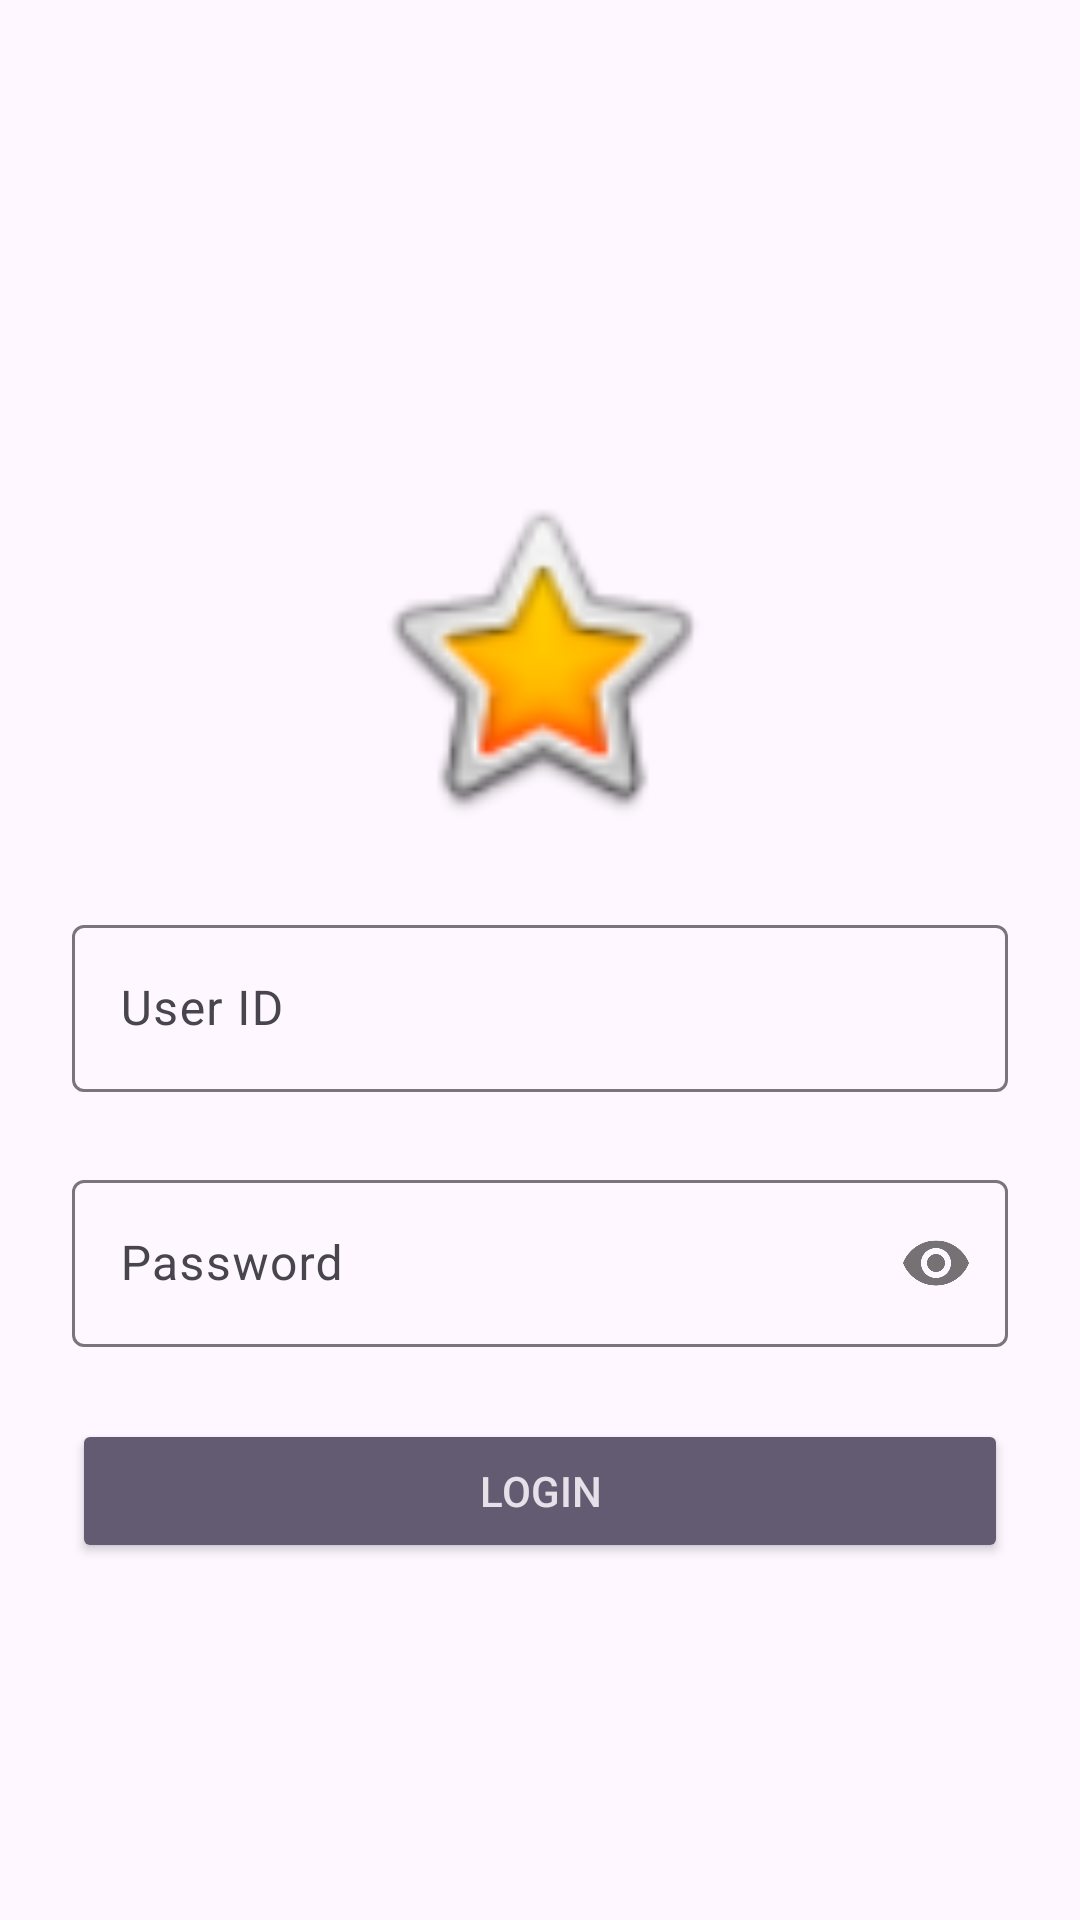

Locate icon controls on the screen. Image size 1080px x 1920px, boxes as (x1, y1, x2, y2).
star on: (392, 513, 694, 806)
